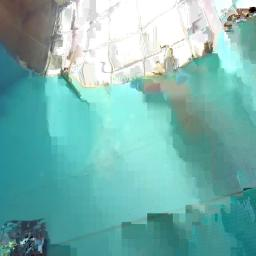Full: (1, 218, 49, 256)
